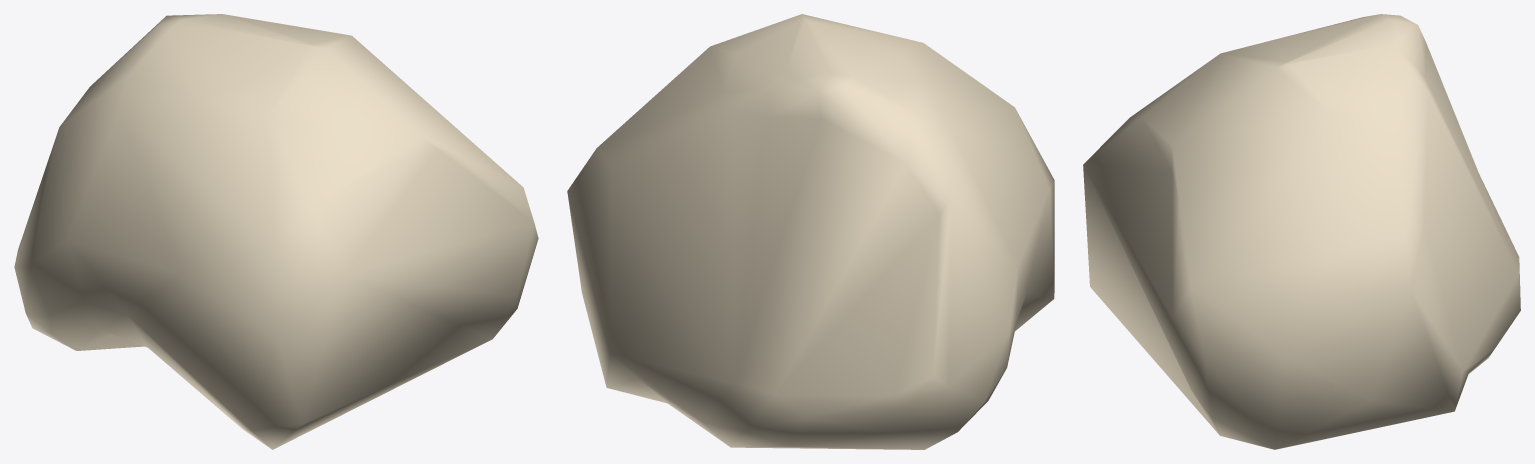
Rendered from middle-phalanx-of-fifth-finger-of-foot-l.glb.
The picture shows the model from 3 angles, left to right: view 1: azimuth 30°, elevation 25°; view 2: azimuth 150°, elevation 25°; view 3: azimuth 270°, elevation 25°; orthographic projection. The views are drawn at different scales.
Parts seen in each view (by area): view 1: Middle phalanx of fifth finger of foot.l; view 2: Middle phalanx of fifth finger of foot.l; view 3: Middle phalanx of fifth finger of foot.l.
Part boxes in pixels (left/top/right/bottom): Middle phalanx of fifth finger of foot.l: left=14, top=14, right=538, bottom=449; Middle phalanx of fifth finger of foot.l: left=567, top=14, right=1054, bottom=449; Middle phalanx of fifth finger of foot.l: left=1083, top=14, right=1520, bottom=449.
Size of the model in its own units: 0.0086 by 0.0066 by 0.00779.
